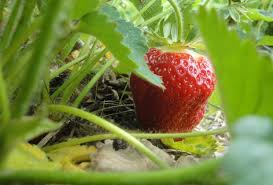ripe: (127, 44, 217, 148)
